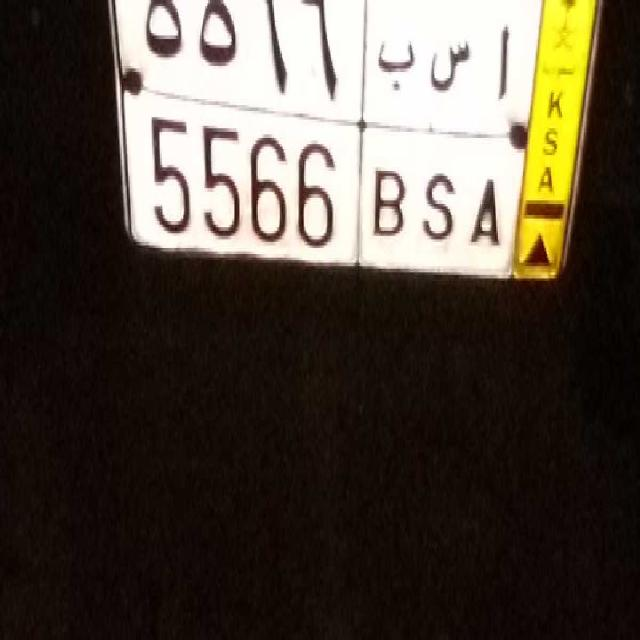license_plate: (139, 104, 506, 285)
